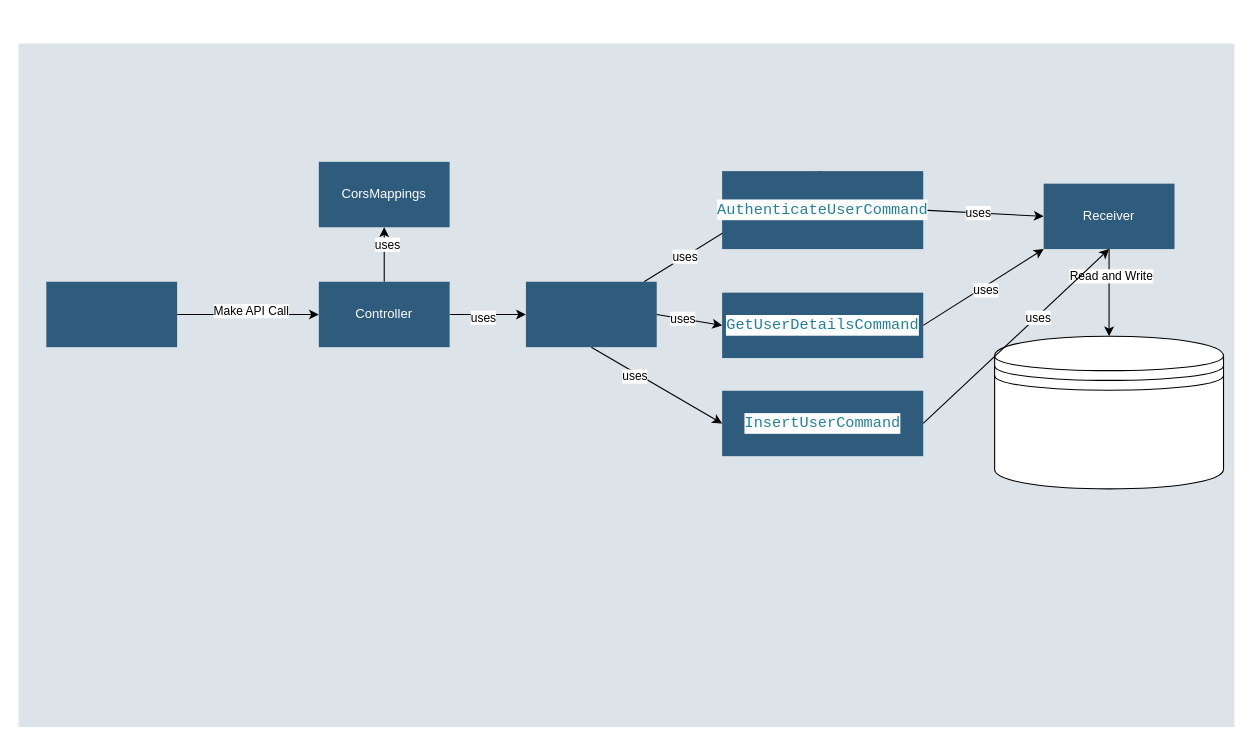
Some shapes in this 1254 by 746 pixel diagram are drawn without their labels. Here are the shapes that lost their labels. From the top down, the centre of each, then its label:
At point (111, 314): "Single Page App".
At point (590, 314): "Invoker".
At point (1109, 412): "Database".
